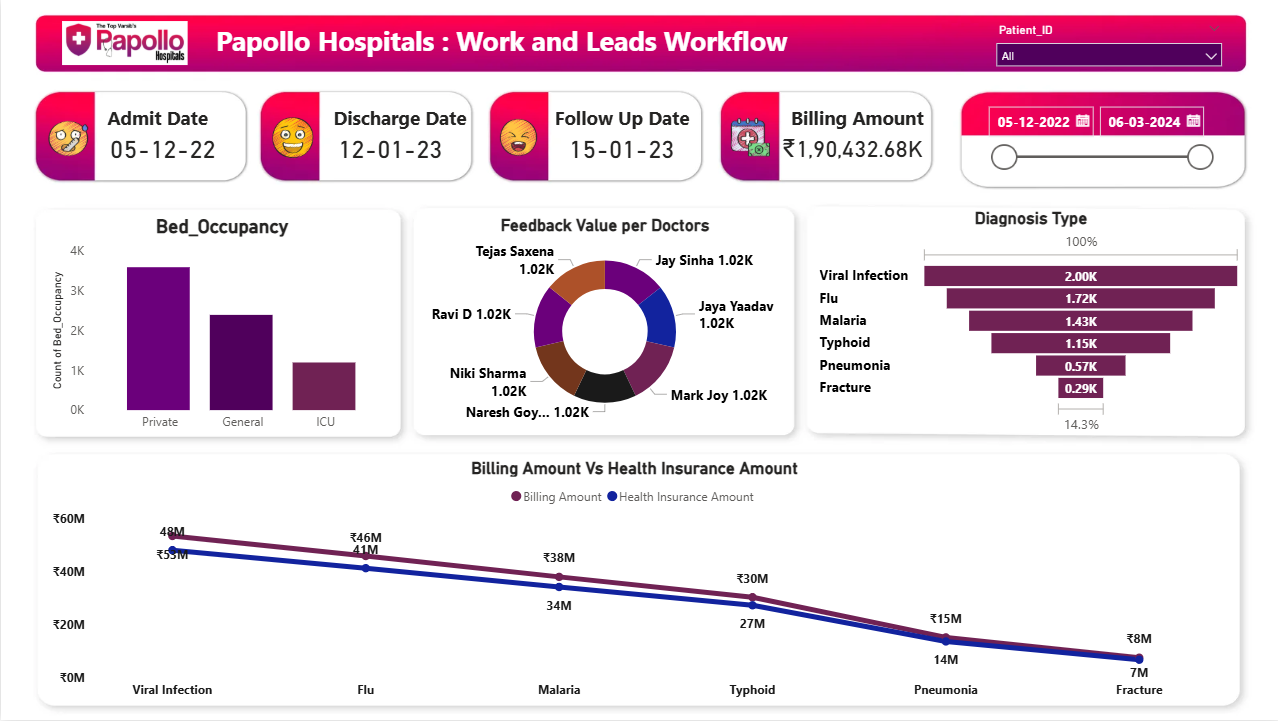

Layout of this report page (visuals, bound fields, positions):
{"tool":"powerbi","page":{"name":"Dashboard","canvas":[1280,720],"ordinal":0},"visuals":[{"type":"image","box":[16.2,16.2,215,53.8],"z":0},{"type":"image","box":[42.5,111.2,50,53.8],"z":1000},{"type":"image","box":[266.2,111.2,51.2,52.5],"z":2000},{"type":"image","box":[487.5,113.8,60,47.5],"z":3000},{"type":"image","box":[725,111.2,48.8,52.5],"z":4000},{"type":"textbox","box":[210,17.5,590,53.8],"z":5000},{"type":"slicer","fields":{"Values":["Sheet1.Patient_ID"]},"box":[985,17.5,246.2,53.8],"z":6000},{"type":"card","fields":{"Values":["Sheet1.Admit_Date"]},"box":[101.2,132.5,121.2,32.5],"z":7000},{"type":"textbox","box":[101.2,100,121.2,38.8],"z":8000},{"type":"textbox","box":[327.5,100,145,38.8],"z":9000},{"type":"card","fields":{"Values":["Sheet1.Discharge_Date"]},"box":[327.5,132.5,123.8,32.5],"z":10000},{"type":"textbox","box":[548.8,100,145,38.8],"z":11000},{"type":"card","fields":{"Values":["Sheet1.Followup Date"]},"box":[558.8,132.5,123.8,32.5],"z":12000},{"type":"textbox","box":[785,100,145,38.8],"z":13000},{"type":"card","fields":{"Values":["Sheet1.Billing Amount"]},"box":[774.2,133,155.8,32.4],"z":14000},{"type":"slicer","fields":{"Values":["Sheet1.Admit_Date"]},"box":[975.6,95.9,245.7,105.5],"z":15000},{"type":"columnChart","title":"Bed_Occupancy","fields":{"Category":["Sheet1.Bed_Occupancy"],"Y":["Sheet1.Bed_Occupancy"]},"box":[46.7,214.5,350,225.3],"z":16000},{"type":"donutChart","title":"Feedback Value per Doctors","fields":{"Category":["Sheet1.Doctor"],"Y":["Sheet1.Doctor"]},"box":[424.3,214.5,360.7,214.5],"z":17000},{"type":"funnel","title":"Diagnosis Type","fields":{"Category":["Sheet1.Diagnosis"],"Y":["Sheet1.Diagnosis"]},"box":[813.8,207.3,432.7,230.1],"z":18000},{"type":"lineChart","title":"Billing Amount Vs Health Insurance Amount ","fields":{"Y":["Sheet1.Billing Amount","Sheet1.Health Insurance Amount"],"Category":["Sheet1.Diagnosis"]},"box":[46.7,457.8,1174.5,250.5],"z":19000}]}

Visuals, with their boxes in screenshot pixels (x1, y1, x2, y2), scaled from the page's 1280x720 canvas onto the 1278x721 screenshot:
image: bbox(16, 16, 231, 70)
image: bbox(42, 111, 92, 165)
image: bbox(266, 111, 317, 164)
image: bbox(487, 114, 547, 162)
image: bbox(724, 111, 773, 164)
textbox: bbox(210, 18, 799, 71)
slicer - Sheet1.Patient_ID: bbox(983, 18, 1229, 71)
card - Sheet1.Admit_Date: bbox(101, 133, 222, 165)
textbox: bbox(101, 100, 222, 139)
textbox: bbox(327, 100, 472, 139)
card - Sheet1.Discharge_Date: bbox(327, 133, 451, 165)
textbox: bbox(548, 100, 693, 139)
card - Sheet1.Followup Date: bbox(558, 133, 682, 165)
textbox: bbox(784, 100, 929, 139)
card - Sheet1.Billing Amount: bbox(773, 133, 929, 166)
slicer - Sheet1.Admit_Date: bbox(974, 96, 1219, 202)
"Bed_Occupancy" columnChart: bbox(47, 215, 396, 440)
"Feedback Value per Doctors" donutChart: bbox(424, 215, 784, 430)
"Diagnosis Type" funnel: bbox(813, 208, 1245, 438)
"Billing Amount Vs Health Insurance Amount " lineChart: bbox(47, 458, 1219, 709)
